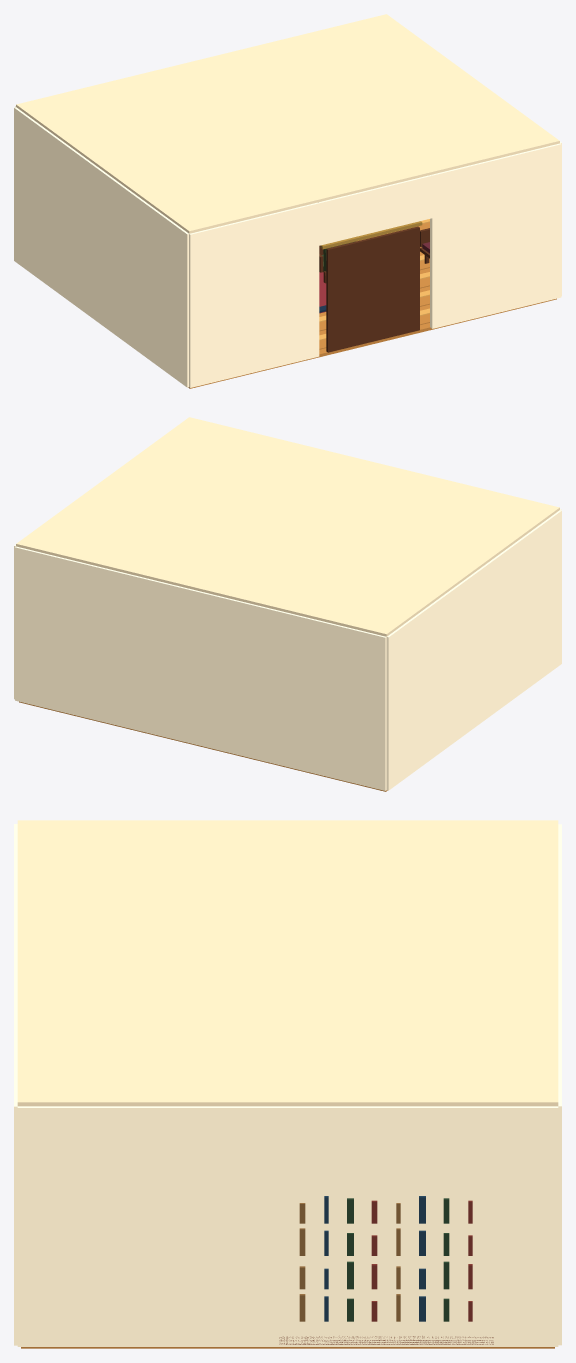
3 views of the same model, one above another, from view 1: azimuth 30°, elevation 25°; view 2: azimuth 150°, elevation 25°; view 3: azimuth 270°, elevation 25° (orthographic). The views are drawn at different scales.
Parts seen in each view (by area): view 1: livadia-coffered-ceiling-main, livadia-left-wall, livadia-front-wall-right, livadia-front-wall-left, livadia-front-double-door, livadia-front-door-lintel, livadia-floor-structural-slab, livadia-front-door-top-arch; view 2: livadia-coffered-ceiling-main, livadia-back-wall, livadia-left-wall, livadia-floor-structural-slab; view 3: livadia-coffered-ceiling-main, livadia-right-wall, livadia-back-wall, livadia-front-wall-right, livadia-floor-structural-slab, livadia-right-bookcase-case-base.
Part boxes in pixels (<box>): livadia-coffered-ceiling-main: <box>16,14,559,233</box>; livadia-left-wall: <box>14,107,188,387</box>; livadia-front-wall-right: <box>430,143,561,328</box>; livadia-front-wall-left: <box>189,202,319,387</box>; livadia-front-double-door: <box>326,226,419,352</box>; livadia-front-door-lintel: <box>318,175,432,245</box>; livadia-floor-structural-slab: <box>188,222,556,388</box>; livadia-front-door-top-arch: <box>320,221,422,249</box>; livadia-coffered-ceiling-main: <box>16,417,559,636</box>; livadia-back-wall: <box>15,546,386,790</box>; livadia-left-wall: <box>386,510,561,790</box>; livadia-floor-structural-slab: <box>19,701,387,791</box>; livadia-coffered-ceiling-main: <box>17,820,558,1106</box>; livadia-right-wall: <box>17,1106,558,1346</box>; livadia-back-wall: <box>558,824,561,1345</box>; livadia-front-wall-right: <box>14,1008,21,1345</box>; livadia-floor-structural-slab: <box>21,1347,554,1348</box>; livadia-right-bookcase-case-base: <box>279,1336,493,1344</box>.
Bounding box in the file's own units: 10.66 × 4.3 × 8.62.
